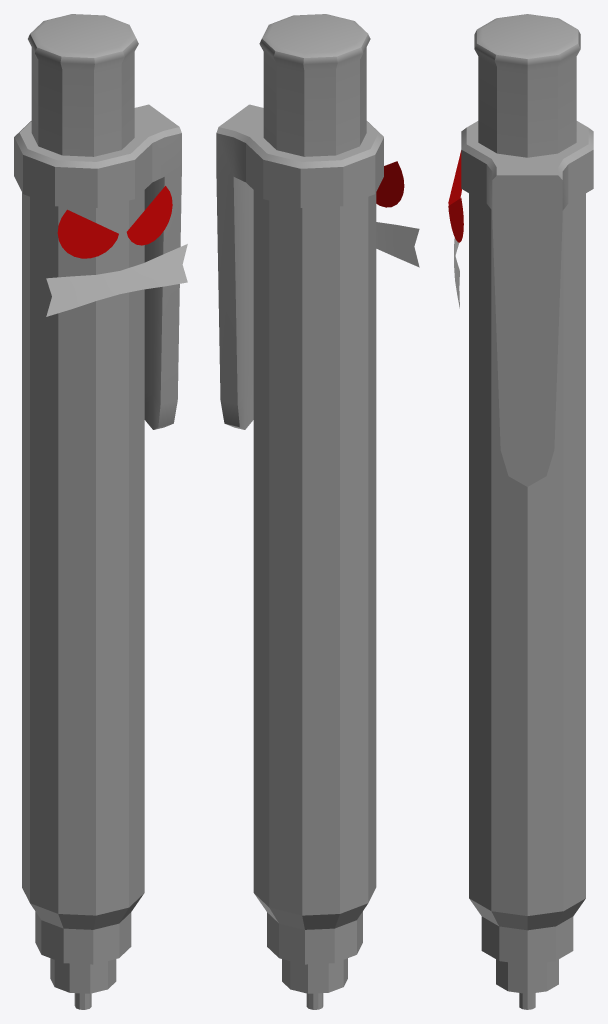
The model's file is Mech_pencil.fbx.
The picture shows the model from 3 angles, left to right: view 1: azimuth 30°, elevation 25°; view 2: azimuth 150°, elevation 25°; view 3: azimuth 270°, elevation 25°; orthographic projection.
Visible parts, largest first — view 1: pasted__pPlane1; view 2: pasted__pPlane1; view 3: pasted__pPlane1.
Boxes of the visible parts, box(x1,y1,x2,y2) form: pasted__pPlane1: box(14, 14, 187, 1009); pasted__pPlane1: box(216, 14, 419, 1009); pasted__pPlane1: box(448, 14, 593, 1009).
Size of the model in its own units: 30.8 by 188 by 25.51.
